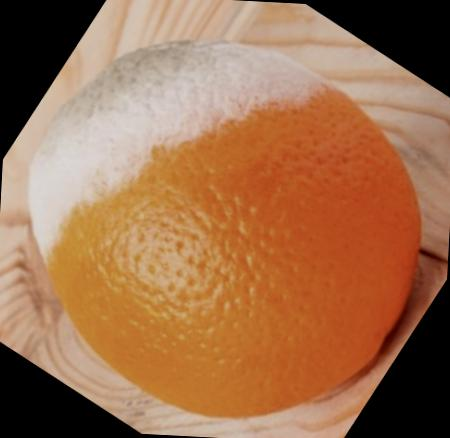Orange Rotten: (0, 21, 444, 427)
